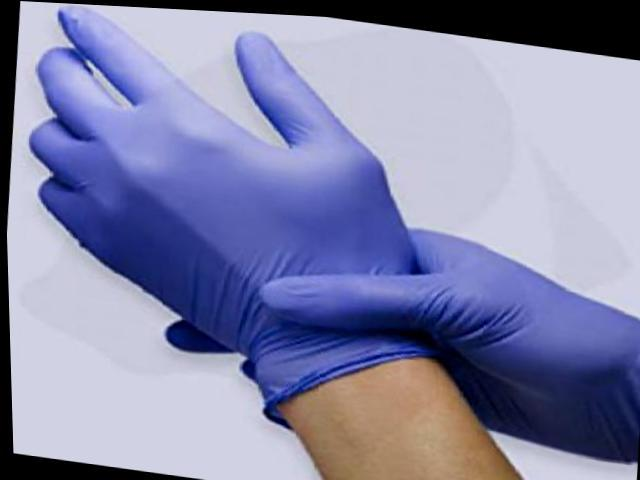Hand-in-Glove: (0, 0, 463, 416), (245, 202, 640, 480)
